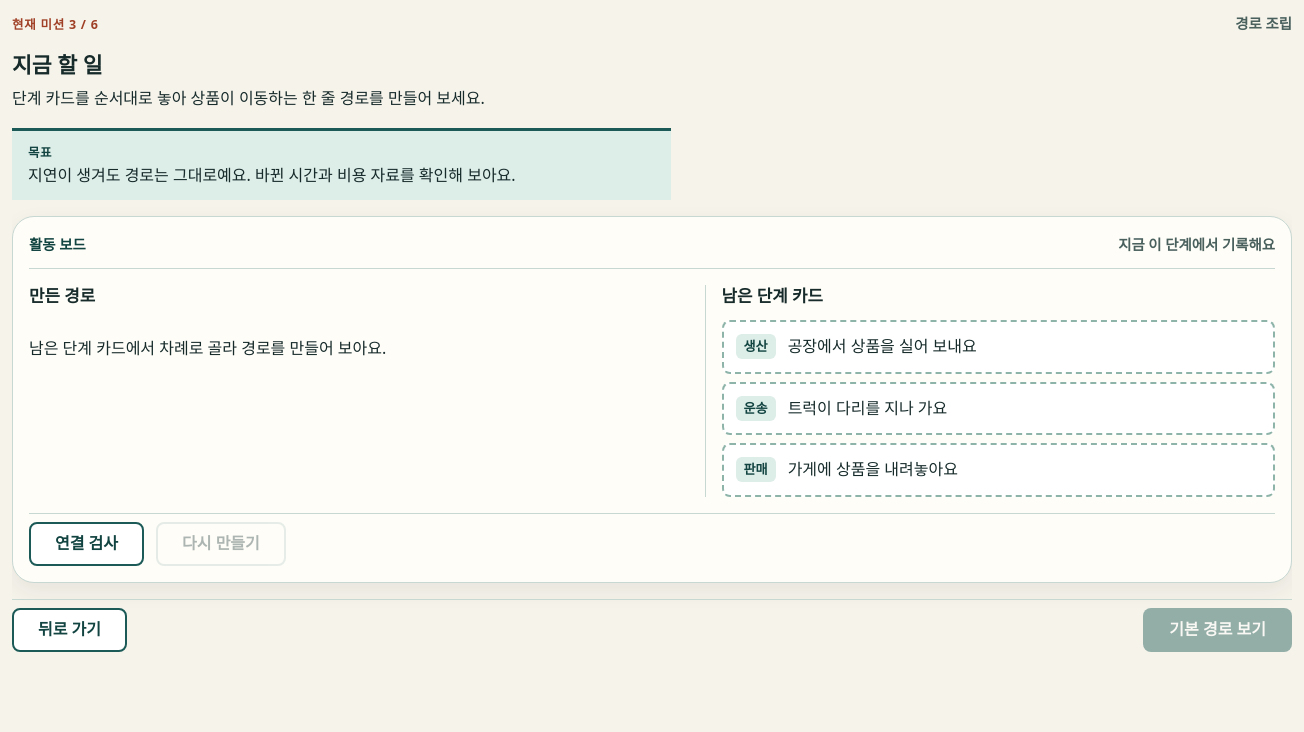
Test: RouteWorkbench — 경로 조립 단계 › 끊긴 경로는 연결 검사에서 이유를 알려 주고 다음 단계를 막는다
The image size is (1304, 732).
Click the button with aria-label "경로에 넣기: 공장에서 상품을 실어 보내요" at (756, 347), box [722,320,1275,374]
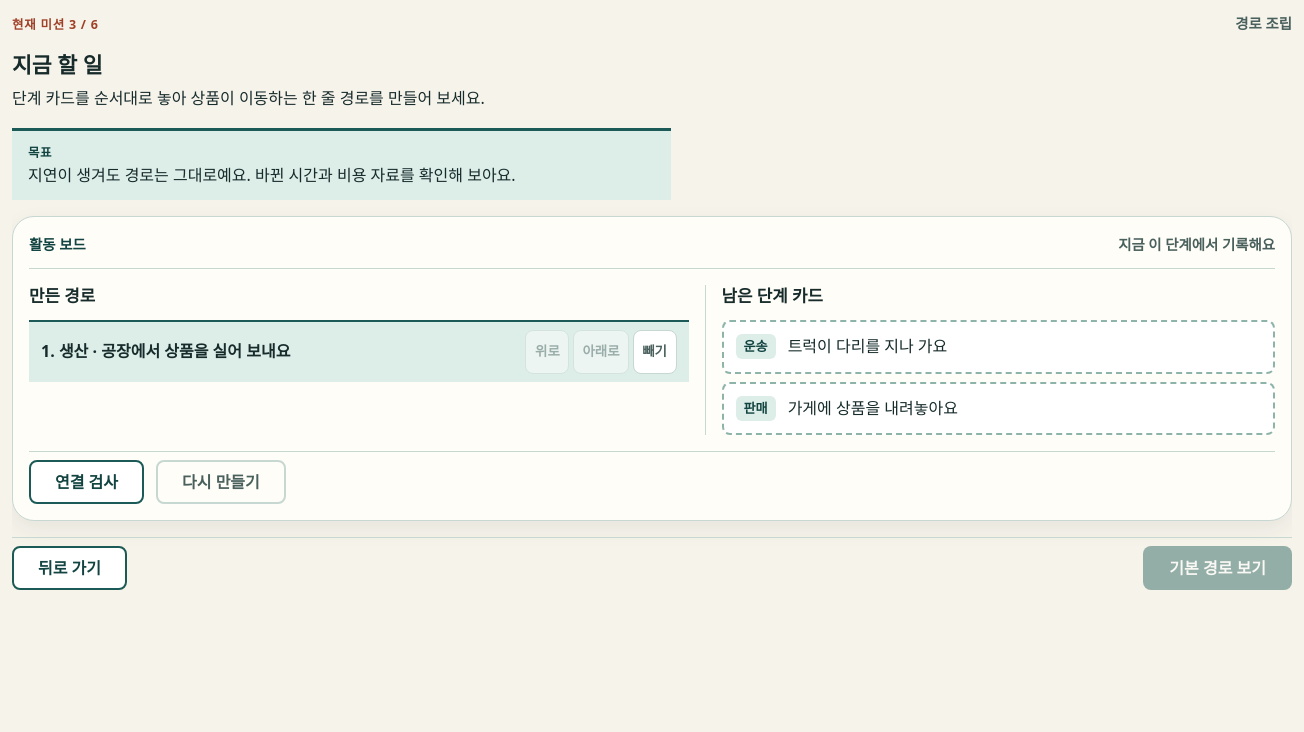
Click the button with aria-label "경로에 넣기: 가게에 상품을 내려놓아요" at (756, 408), box [722,382,1275,435]
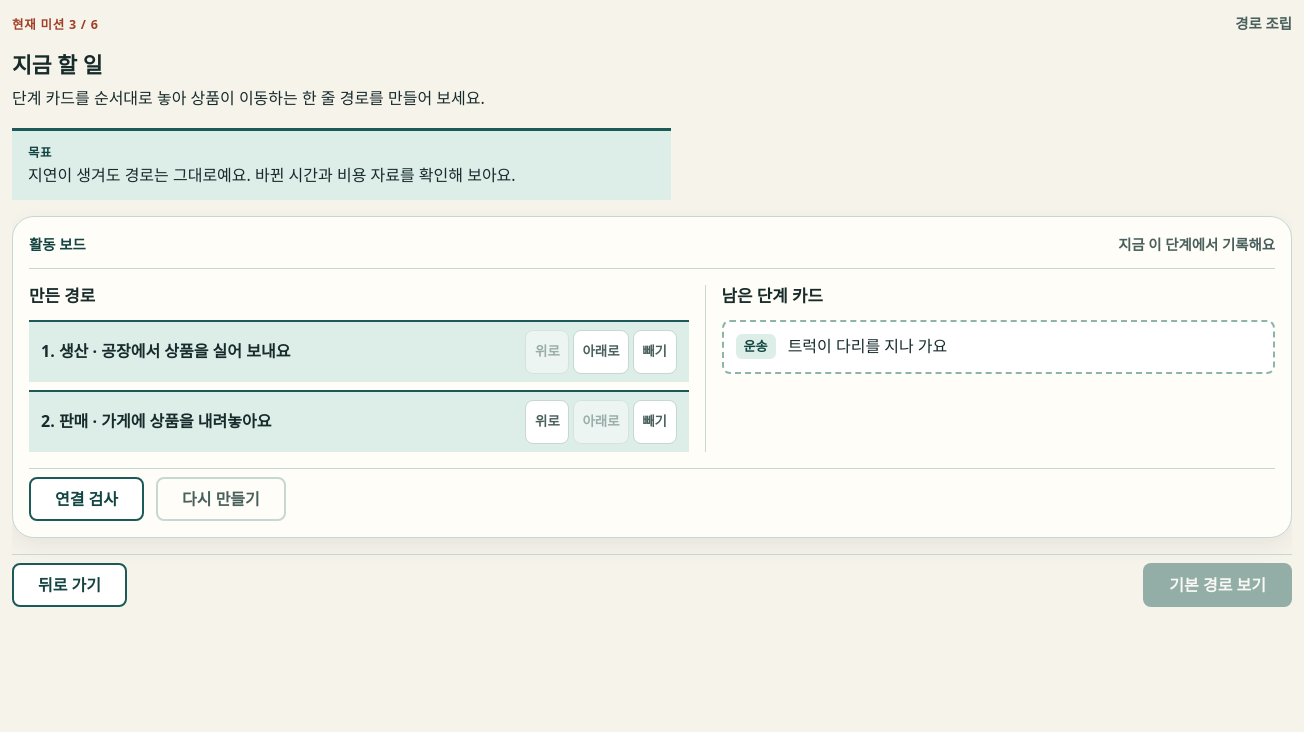
Click the button "연결 검사" at (86, 499), box [29,477,144,521]
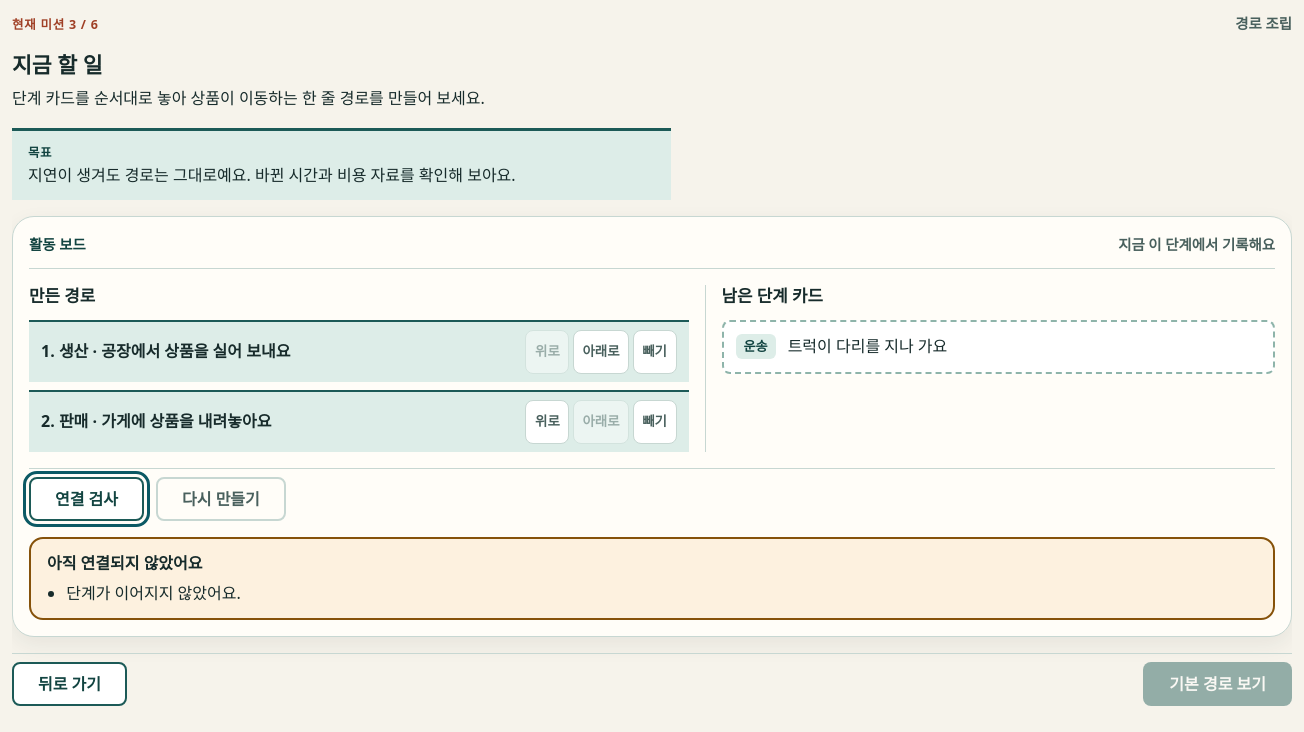
Expected: the button "기본 경로 보기" is disabled, [1143,662,1292,706]
Expected: the list item "단계가 이어지지 않았어요." is shown, [66,582,241,604]
